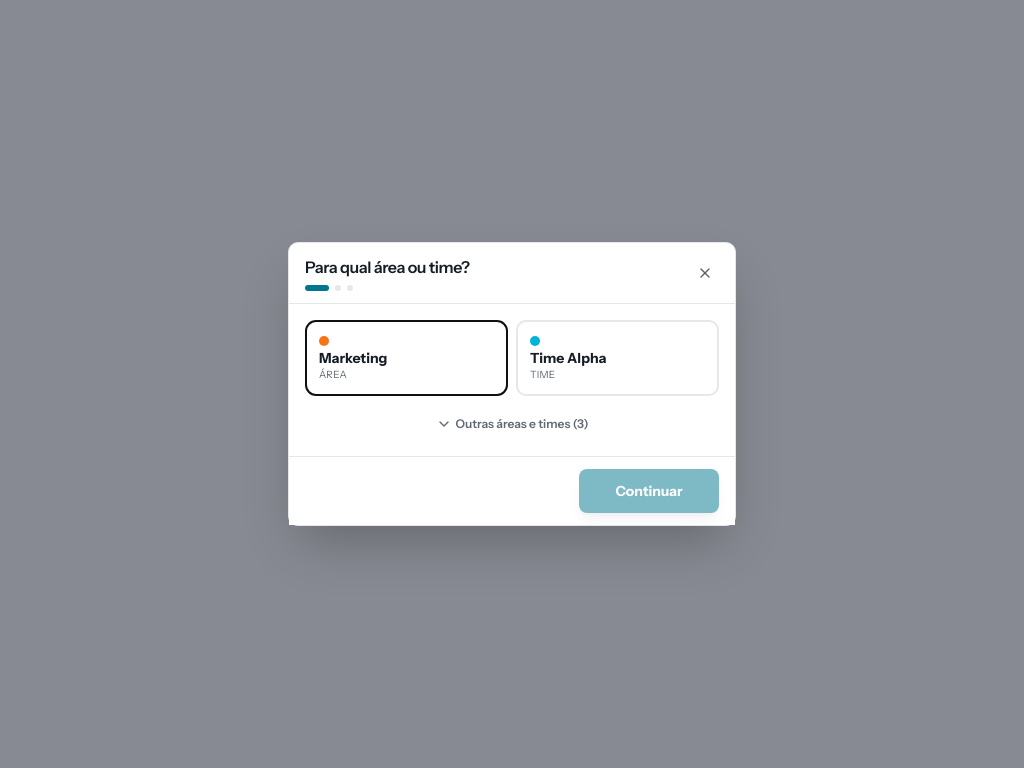
Test case: enviar uma demanda para si › escolher a área já pula para o próximo passo, num toque só
The width and height of the screenshot is (1024, 768).
Click the button "Marketing Área" at (406,358), box [305, 320, 508, 396]
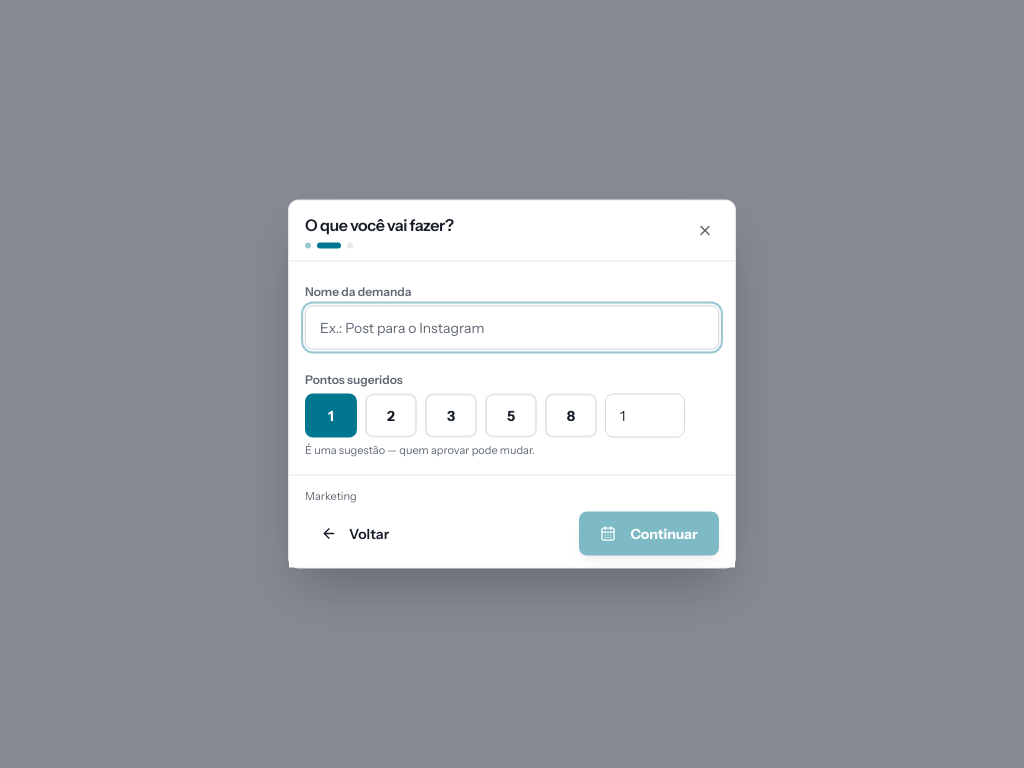
Expected: the heading "O que você vai fazer?" is shown, [305, 214, 454, 234]
